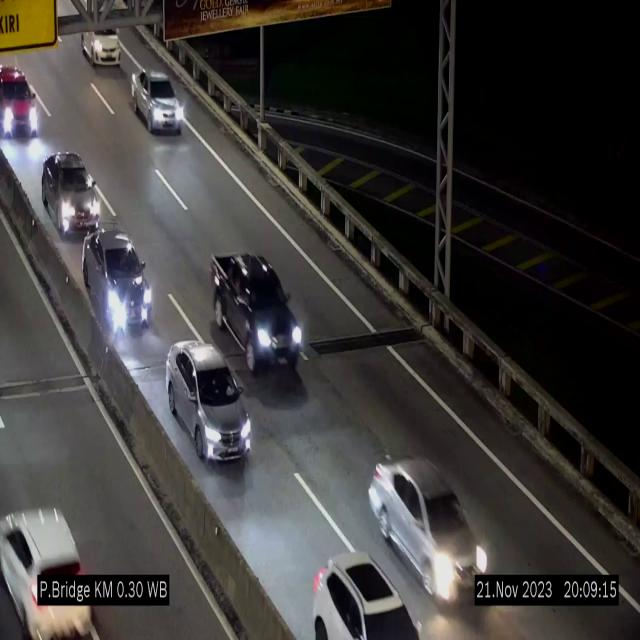Car: (368, 458, 488, 607), (0, 480, 99, 640), (305, 529, 431, 640), (212, 254, 304, 375), (165, 341, 252, 463), (82, 225, 154, 343), (42, 146, 100, 234), (131, 70, 185, 132), (0, 67, 38, 136), (82, 30, 120, 70)
